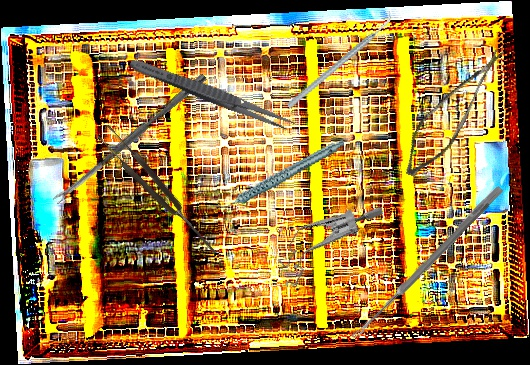Chopper: (270, 11, 409, 109)
Dressing Forceps: (127, 54, 297, 135)
Handpiece: (207, 139, 353, 212)
Micro Scissor: (397, 31, 505, 190)
Speculum: (267, 175, 386, 311)
Surgical Spoon: (350, 183, 504, 343), (51, 72, 208, 205)
Tissue Forceps: (94, 122, 223, 261)
